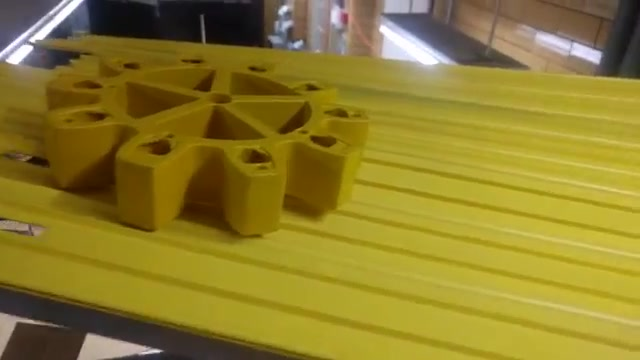gear: (36, 34, 379, 255)
